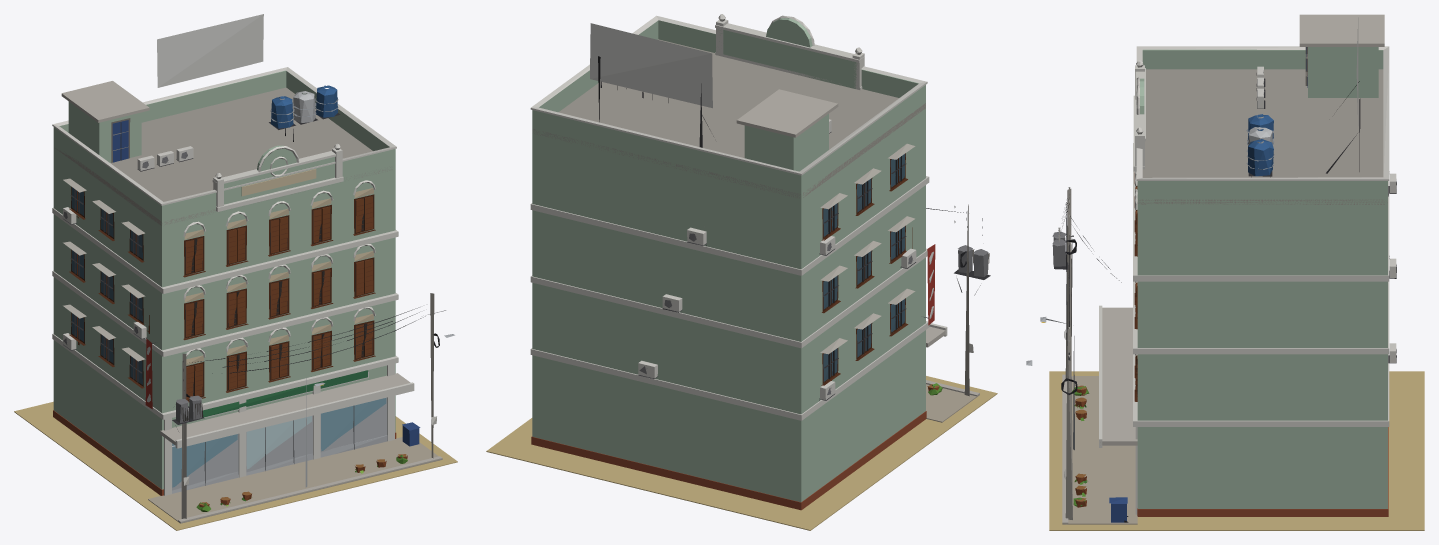
The model's file is shop_4.glb.
The picture shows the model from 3 angles, left to right: view 1: azimuth 30°, elevation 25°; view 2: azimuth 150°, elevation 25°; view 3: azimuth 270°, elevation 25°; orthographic projection. The views are drawn at different scales.
Visible parts, largest first — view 1: body, windows; view 2: body, windows; view 3: body.
Part boxes in pixels (x1,y1,x2,y2): body: (14,14,457,530); windows: (71,187,373,395); body: (486,14,997,530); windows: (823,154,905,381); body: (1026,14,1424,530).
Bounding box in the file's own units: 15.9 × 20.13 × 16.88.
